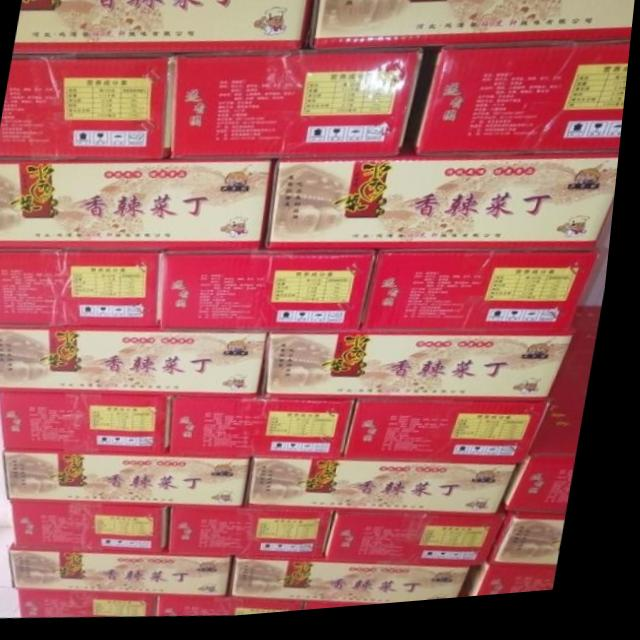box: (271, 154, 623, 260), (0, 157, 285, 254), (174, 54, 426, 163), (412, 50, 633, 163), (269, 334, 587, 411), (0, 324, 278, 403), (367, 256, 606, 342), (0, 55, 188, 161), (253, 460, 536, 524), (168, 252, 382, 334), (306, 0, 637, 53), (12, 442, 263, 511), (13, 0, 313, 55), (355, 406, 558, 472), (0, 249, 171, 327), (22, 543, 244, 600), (241, 560, 484, 611), (179, 400, 364, 462), (7, 391, 183, 456), (540, 317, 609, 466), (338, 517, 516, 573), (181, 508, 347, 565), (22, 499, 181, 555), (511, 464, 585, 525), (500, 518, 577, 576), (31, 590, 170, 620), (169, 597, 318, 620), (479, 571, 570, 606)
